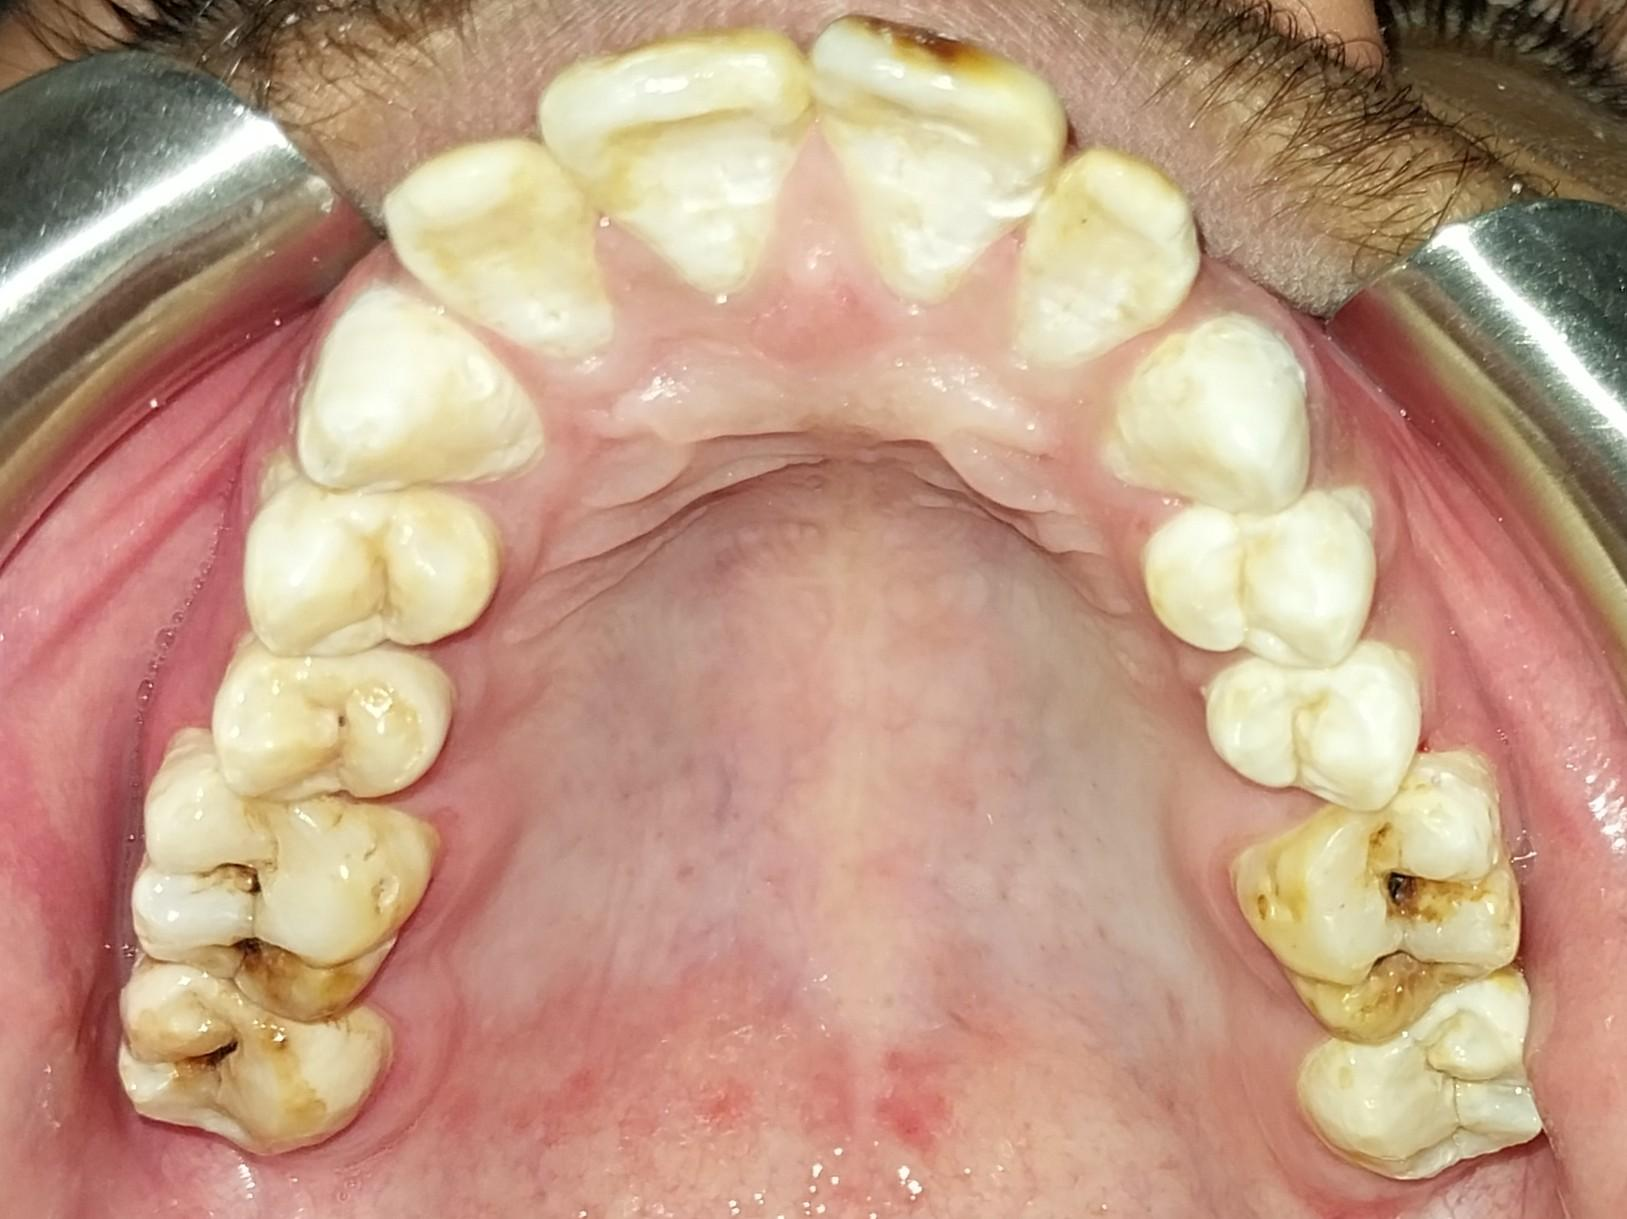D: (130, 745, 442, 1027), (1235, 753, 1506, 1042), (116, 966, 395, 1153), (214, 644, 456, 809)
